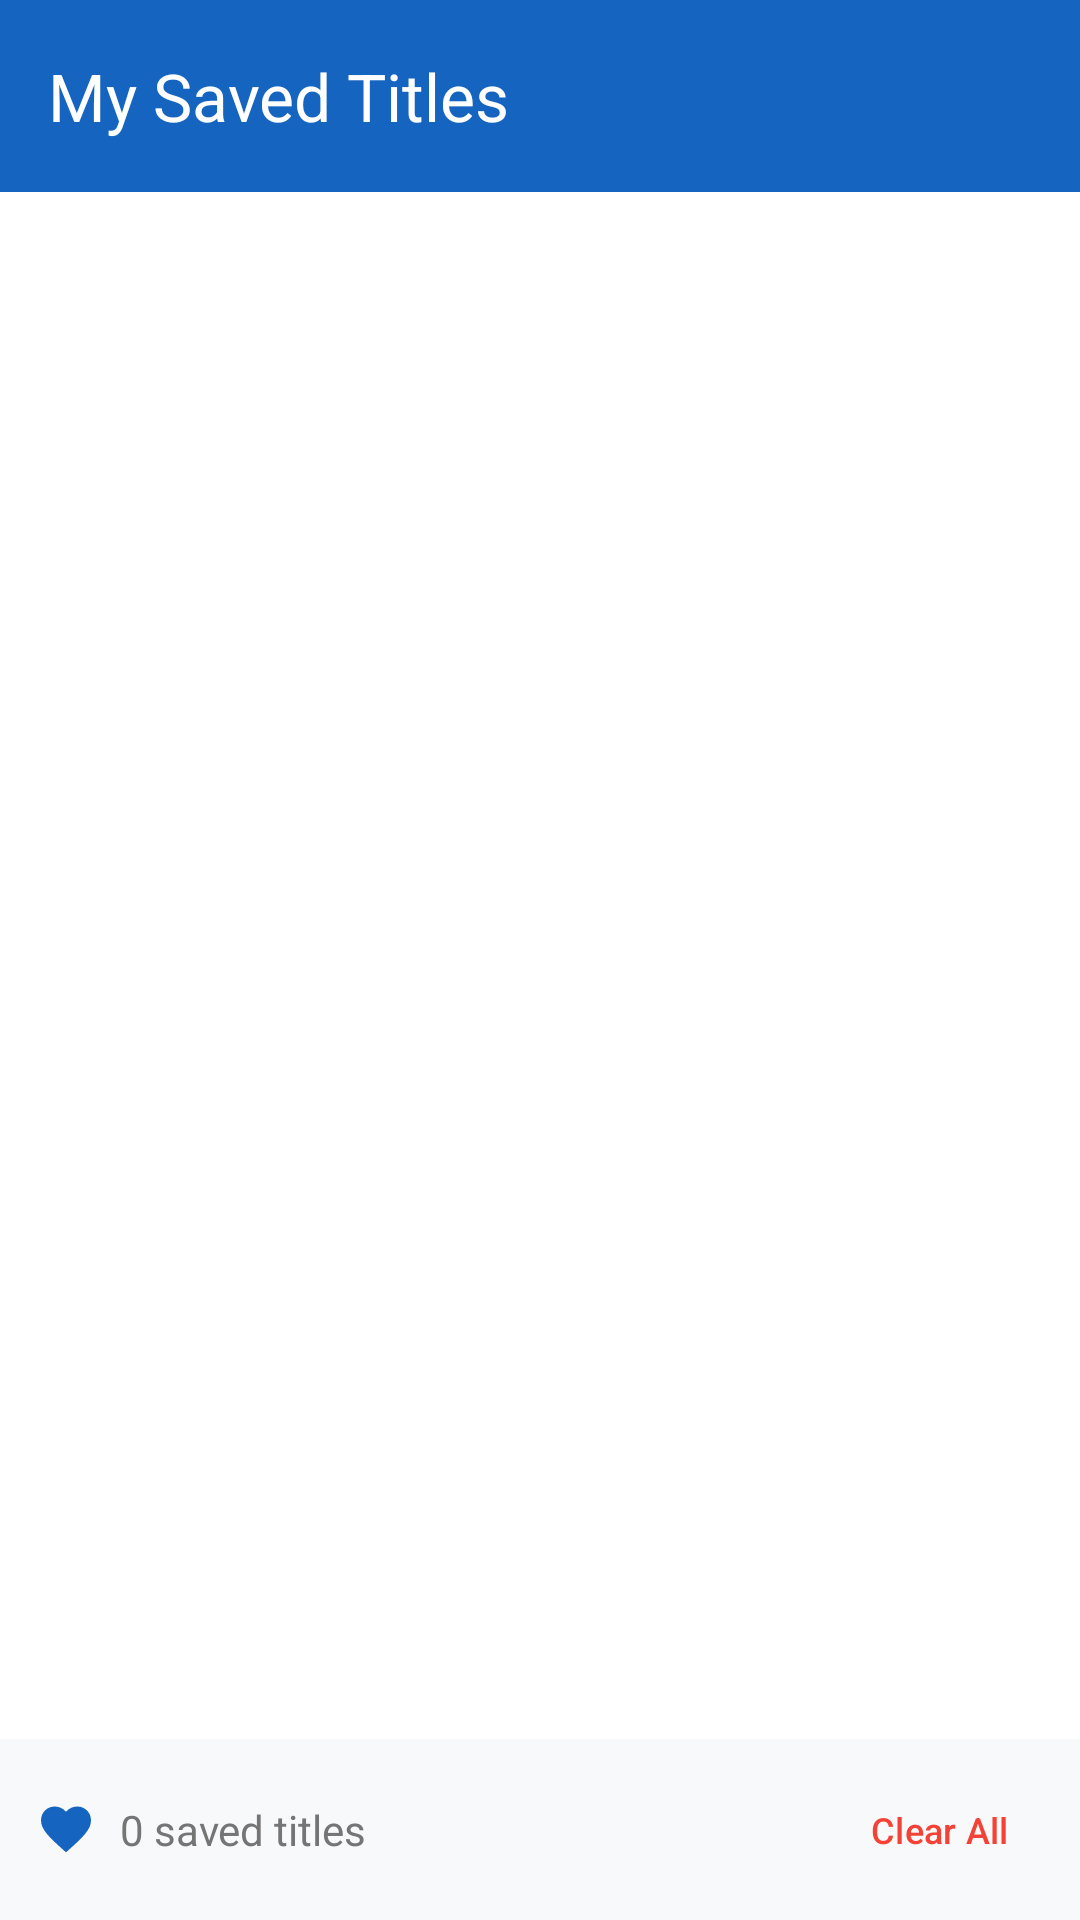

Locate icon controls on the screen. Image size 1080 × 1920, boxes as (x1, y1, x2, y2).
heart: (41, 1806, 91, 1852)
